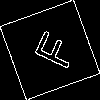F: (25, 25, 79, 72)
